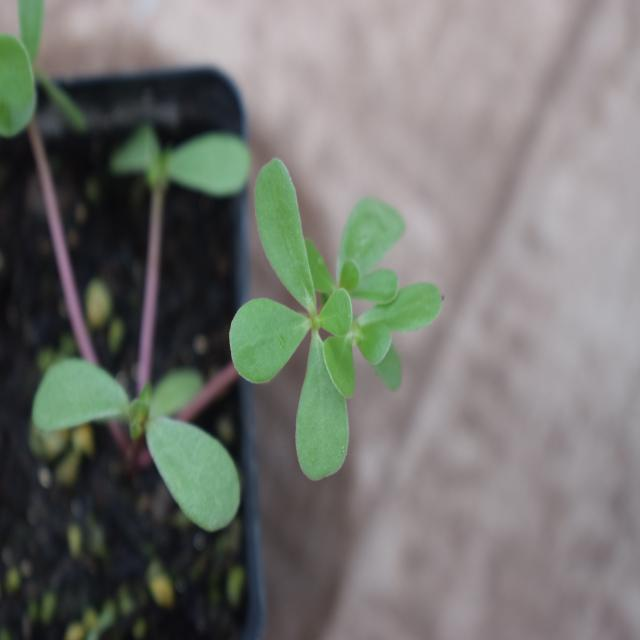purslane: (18, 192, 464, 516)
